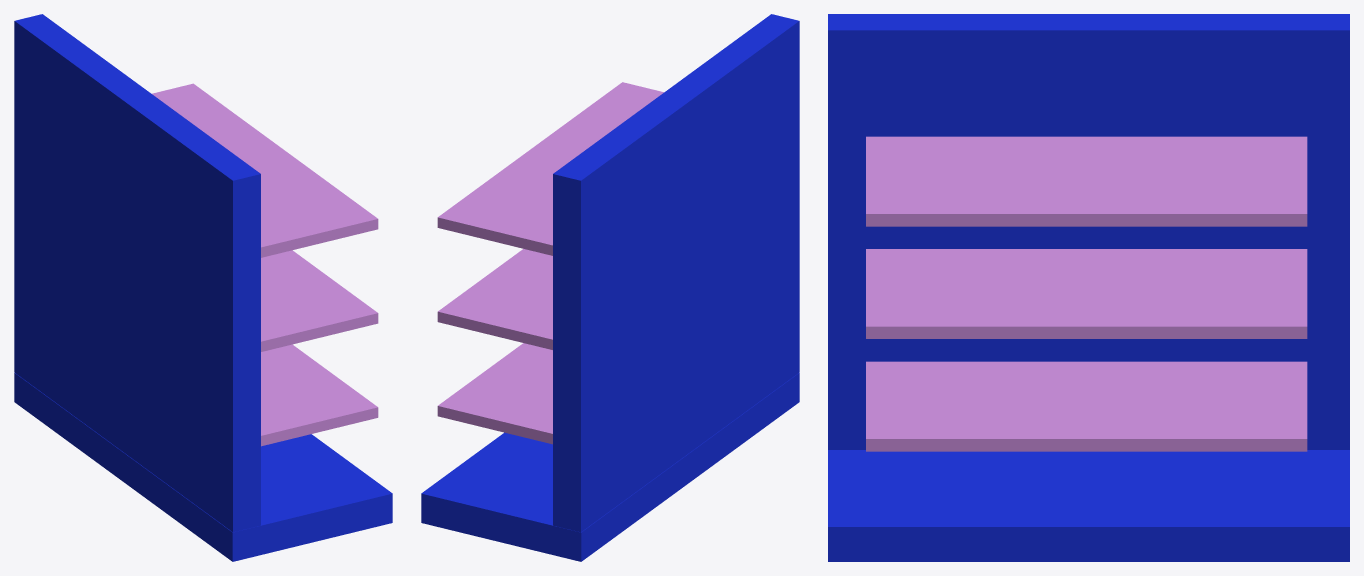
File: UsualPark.fbx
3 views of the same model, side by side, from view 1: azimuth 30°, elevation 25°; view 2: azimuth 150°, elevation 25°; view 3: azimuth 270°, elevation 25° (orthographic). The views are drawn at different scales.
Visible parts, largest first — view 1: Cube.004, Cube.003, Cube.002, Cube, Cube.001; view 2: Cube.004, Cube.003, Cube.002, Cube, Cube.001; view 3: Cube.004, Cube.003, Cube, Cube.002, Cube.001.
Boxes of the visible parts, bbox=[...] form: Cube.004: bbox=[14, 14, 260, 532]; Cube.003: bbox=[14, 372, 392, 561]; Cube.002: bbox=[152, 83, 378, 257]; Cube: bbox=[261, 344, 378, 446]; Cube.001: bbox=[261, 250, 378, 351]; Cube.004: bbox=[553, 14, 799, 532]; Cube.003: bbox=[421, 372, 799, 561]; Cube.002: bbox=[437, 82, 663, 255]; Cube: bbox=[437, 343, 552, 444]; Cube.001: bbox=[437, 249, 552, 349]; Cube.004: bbox=[828, 14, 1349, 449]; Cube.003: bbox=[828, 450, 1349, 561]; Cube: bbox=[866, 361, 1307, 451]; Cube.002: bbox=[866, 136, 1307, 226]; Cube.001: bbox=[866, 249, 1307, 338].
Bounding box in the file's own units: 80.68 × 182 × 189.
